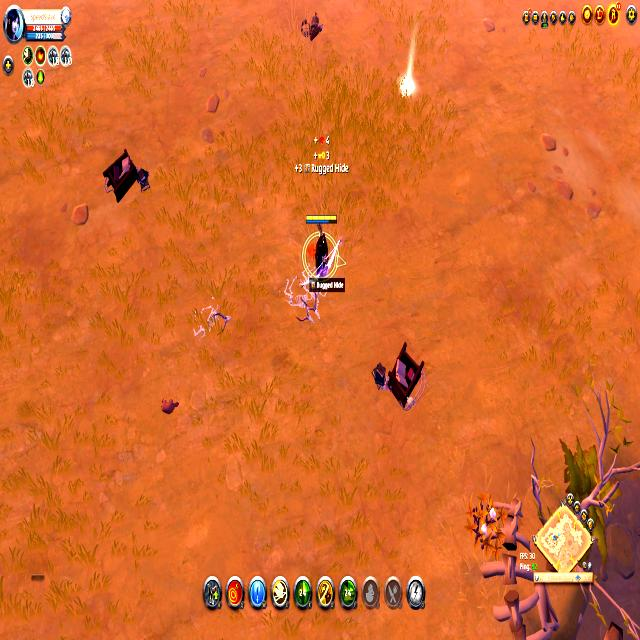hide: (464, 490, 506, 558)
red: (305, 209, 338, 279)
stone: (399, 74, 415, 95)
